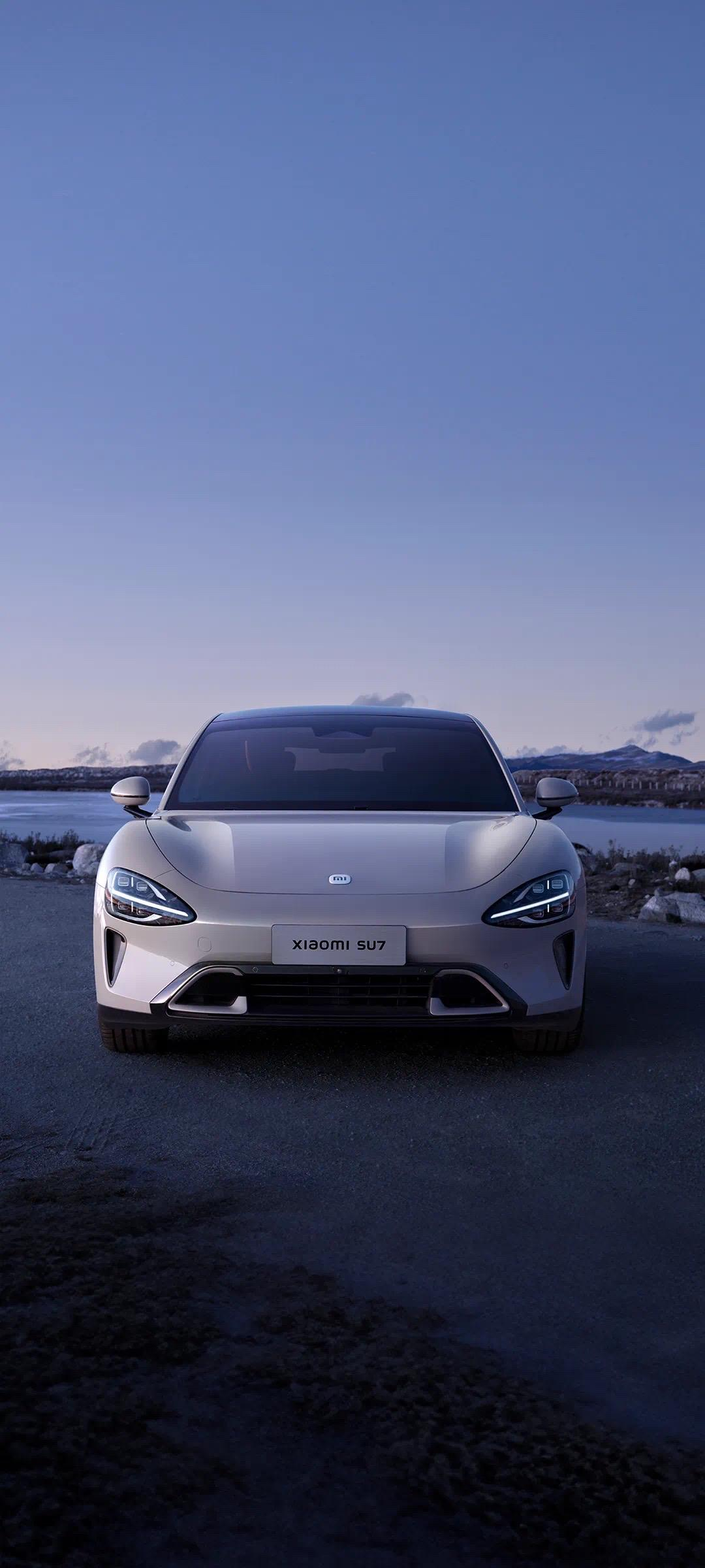su7: (80, 679, 584, 1041)
